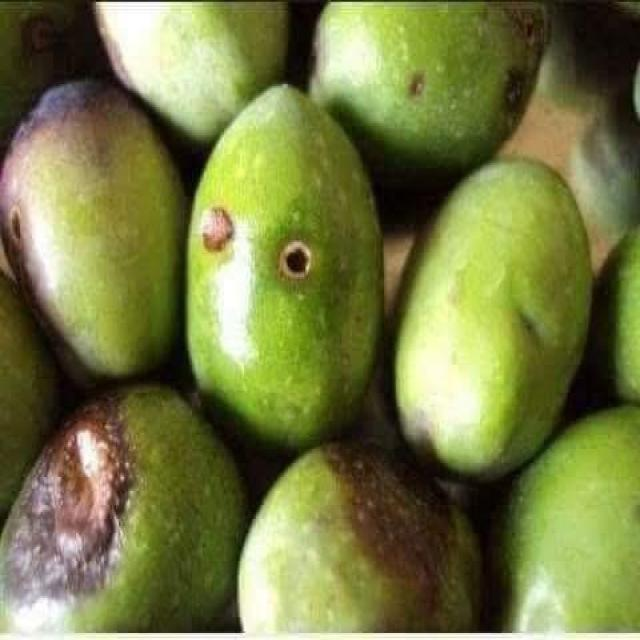Olive Fruit Fly: (187, 84, 381, 445), (0, 384, 245, 631), (0, 81, 185, 384), (239, 438, 480, 633), (309, 0, 548, 188)
